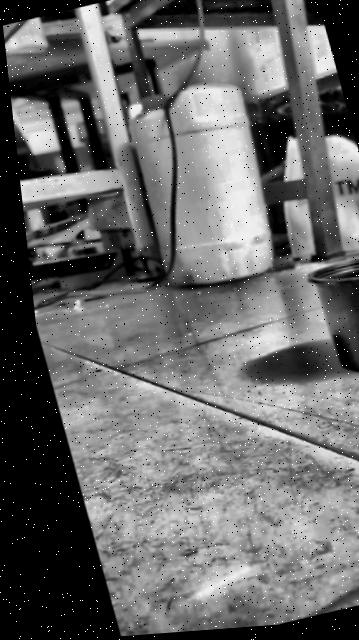pot: (305, 251, 359, 386)
